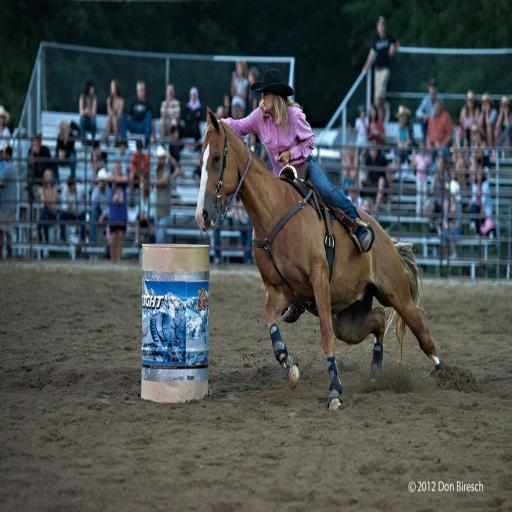horse: (192, 107, 448, 410)
